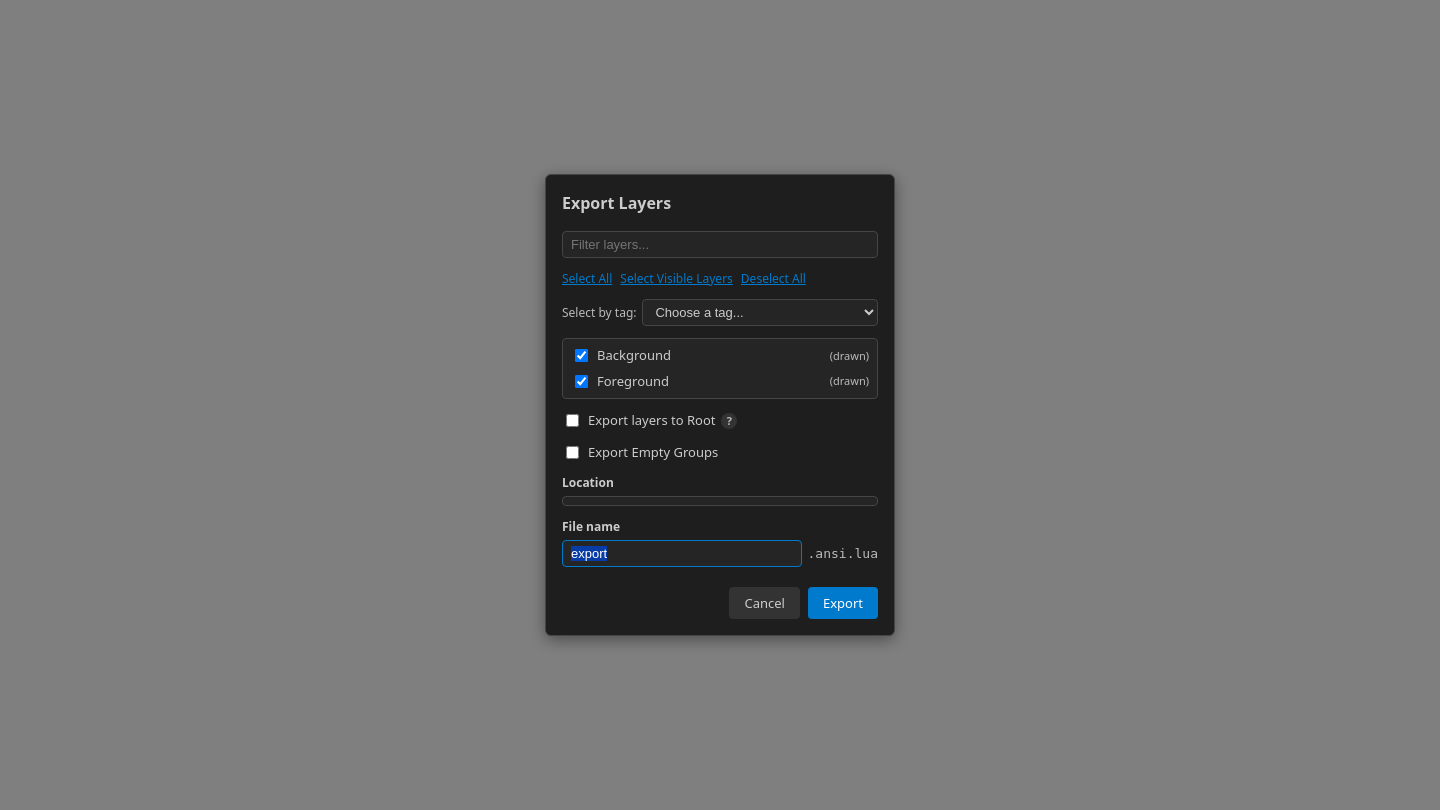
Scenario: ExportLayersDialog — tags, groups, dedup › Select by tag › selecting a tag shows a pill and selects matching layers
Step 1. Click the button "Deselect All" → point(773, 278), box [741,270,806,287]
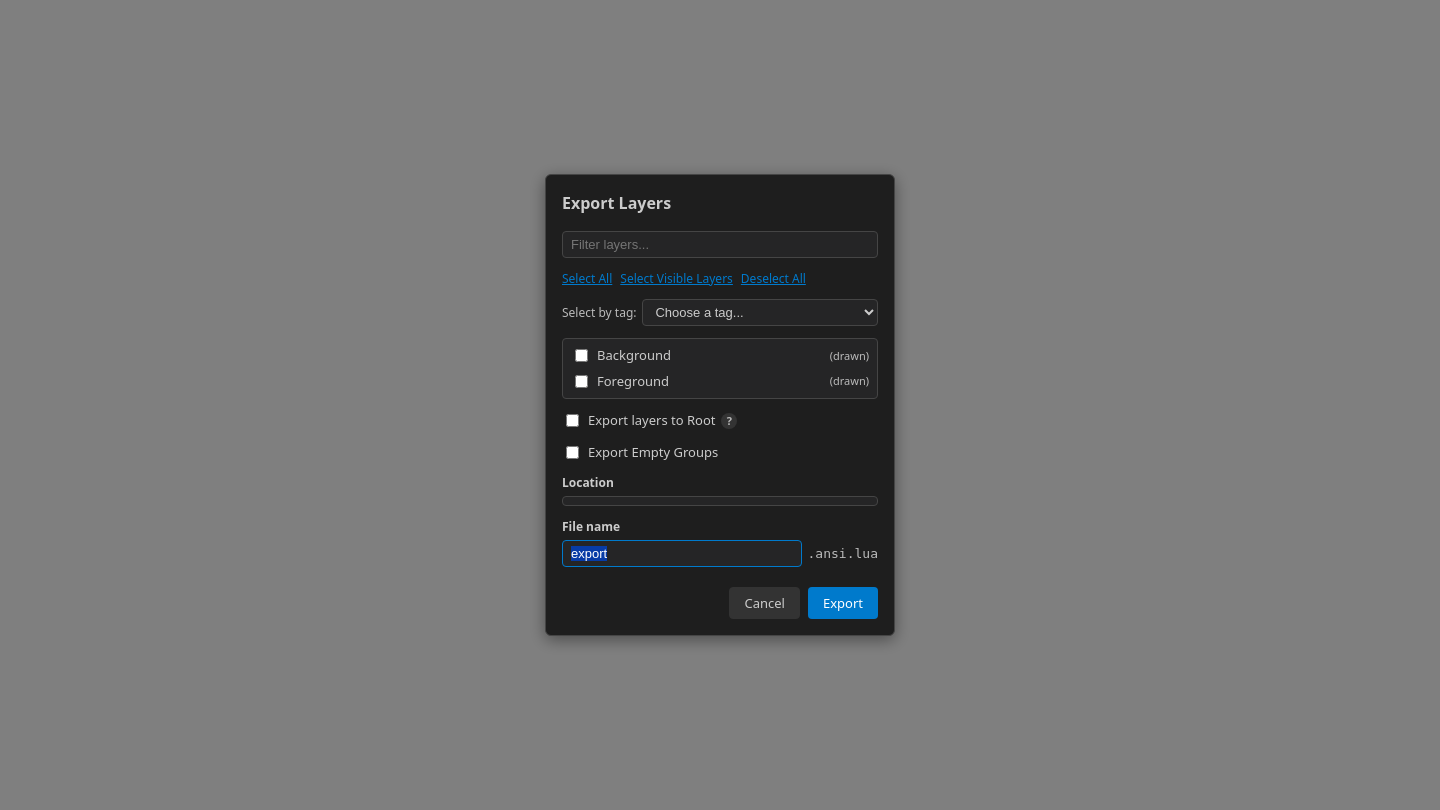
Step 2. Select "sky" in the dropdown with test id "export-tag-select" → point(760, 312), box [642,299,878,326]
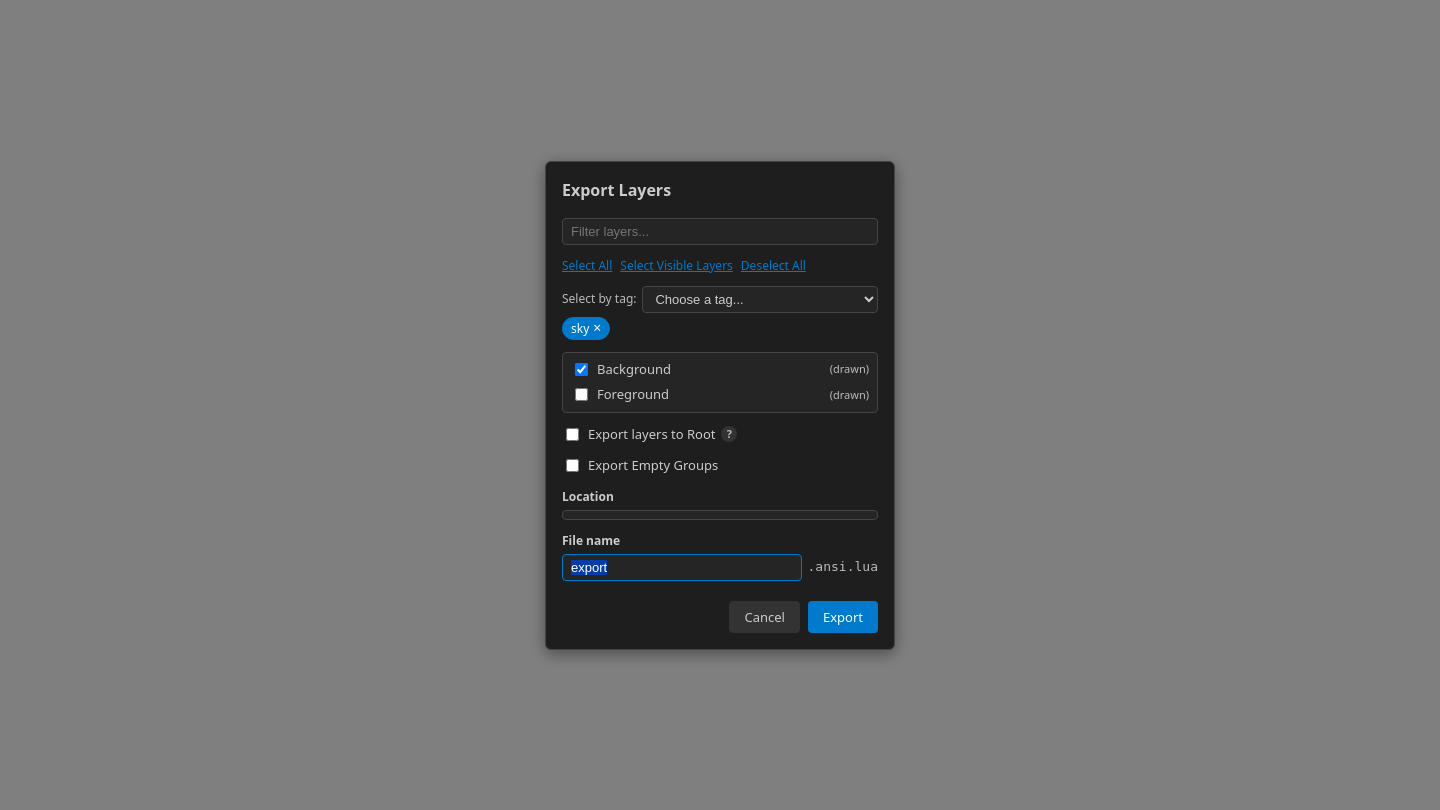
Result: the checkbox with test id "export-check-fg-1" is not checked at [575,388,588,401]
Result: the button with test id "export-pill-sky" is shown at [562,316,610,340]
Result: the checkbox with test id "export-check-bg-1" is checked at [575,363,588,376]
